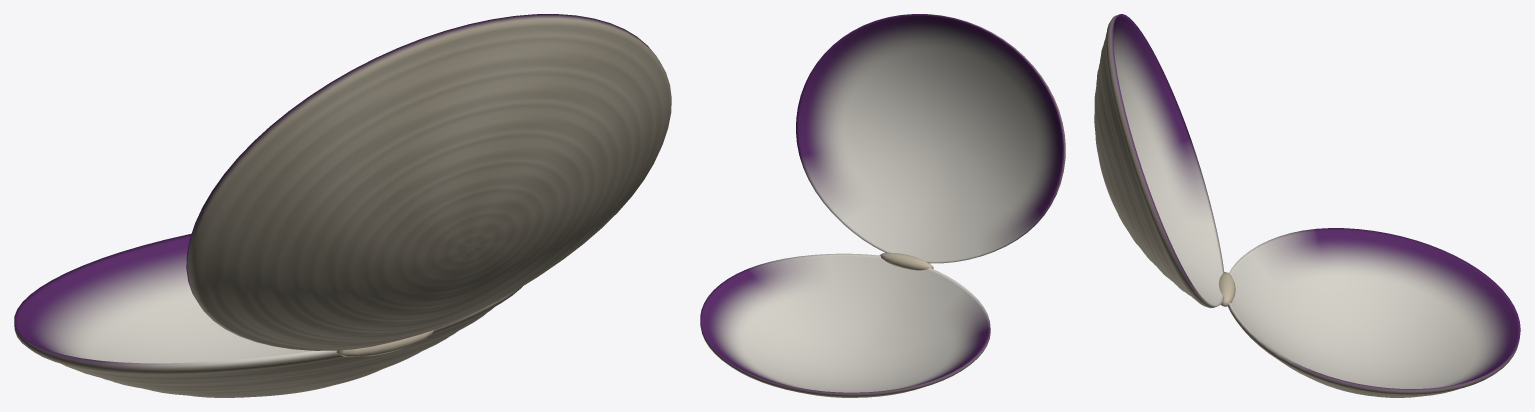
Rendered from shell_quahog.glb.
3 renders of one model, left to right at view 1: azimuth 30°, elevation 25°; view 2: azimuth 150°, elevation 25°; view 3: azimuth 270°, elevation 25°, orthographic. The views are drawn at different scales.
Visible parts, largest first — view 1: raised_valve, lower_valve, hinge; view 2: raised_valve, lower_valve, hinge; view 3: lower_valve, raised_valve, hinge.
Part boxes in pixels (x1=…): raised_valve: x1=186, y1=14, x2=671, y2=350; lower_valve: x1=14, y1=233, x2=522, y2=397; hinge: x1=336, y1=330, x2=433, y2=357; raised_valve: x1=796, y1=14, x2=1065, y2=263; lower_valve: x1=700, y1=253, x2=990, y2=397; hinge: x1=879, y1=252, x2=933, y2=270; lower_valve: x1=1227, y1=228, x2=1520, y2=397; raised_valve: x1=1094, y1=14, x2=1224, y2=308; hinge: x1=1219, y1=272, x2=1235, y2=306.
Bounding box in the file's own units: 0.32 × 0.3194 × 0.3707.
